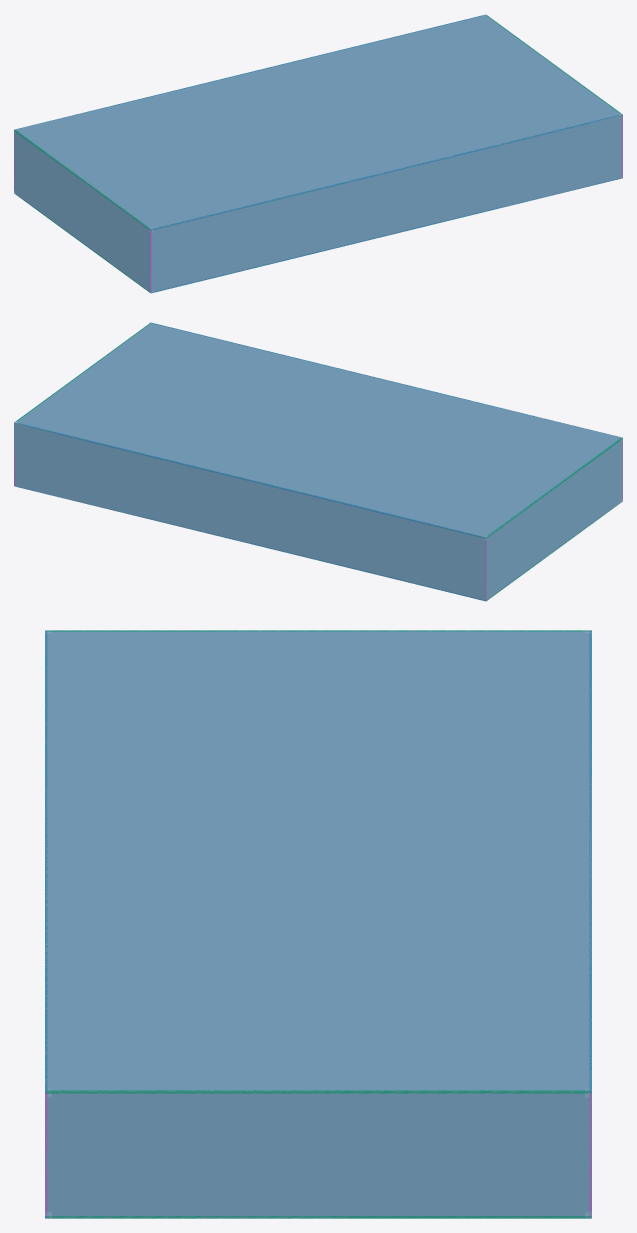
The model's file is total-envelope-total-gpu-msi-geforce-gtx-980-gaming-4g.glb.
3 renders of one model, top to bottom at view 1: azimuth 30°, elevation 25°; view 2: azimuth 150°, elevation 25°; view 3: azimuth 270°, elevation 25°, orthographic. The views are drawn at different scales.
Visible parts, largest first — view 1: Published outer envelope — not a surface-accurate model, Length guide (×3), Height guide; view 2: Published outer envelope — not a surface-accurate model, Length guide (×3), Height guide; view 3: Published outer envelope — not a surface-accurate model, Height guide (×3), Length guide (×2).
Part boxes in pixels (left/top/right/bottom): Published outer envelope — not a surface-accurate model: left=14, top=15, right=621, bottom=292; Length guide (×3): left=14, top=15, right=620, bottom=292; Height guide: left=14, top=129, right=151, bottom=230; Published outer envelope — not a surface-accurate model: left=14, top=323, right=622, bottom=600; Length guide (×3): left=14, top=322, right=622, bottom=601; Height guide: left=485, top=437, right=622, bottom=537; Published outer envelope — not a surface-accurate model: left=45, top=630, right=591, bottom=1218; Height guide (×3): left=45, top=630, right=591, bottom=1218; Length guide (×2): left=45, top=630, right=591, bottom=1093.
Size of the model in its own units: 0.279 by 0.036 by 0.14.
